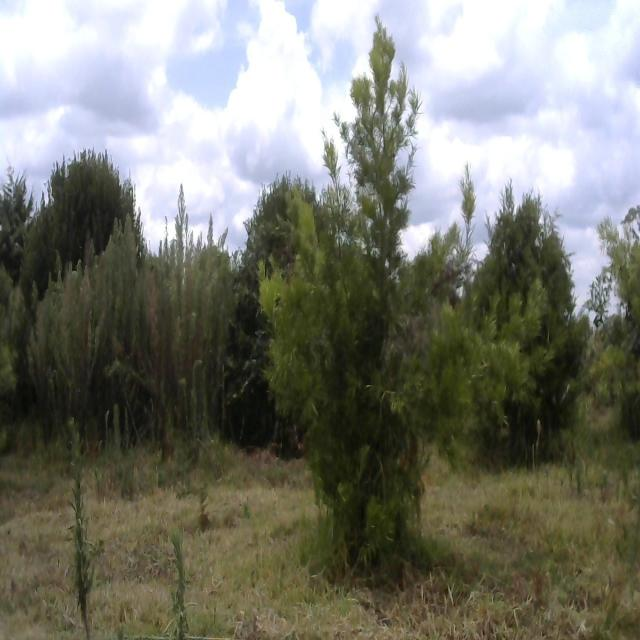Olea europea -africana-: (23, 134, 146, 308), (240, 170, 326, 332)
Podocarpus falcatus: (259, 7, 534, 585)
